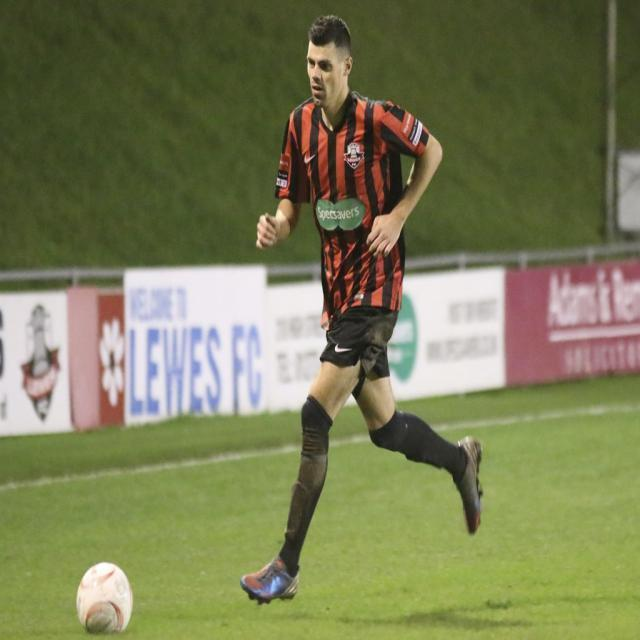ball: (74, 559, 136, 634)
